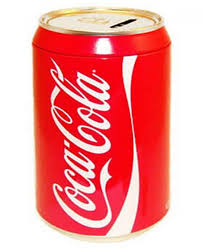coke: (43, 58, 116, 231)
